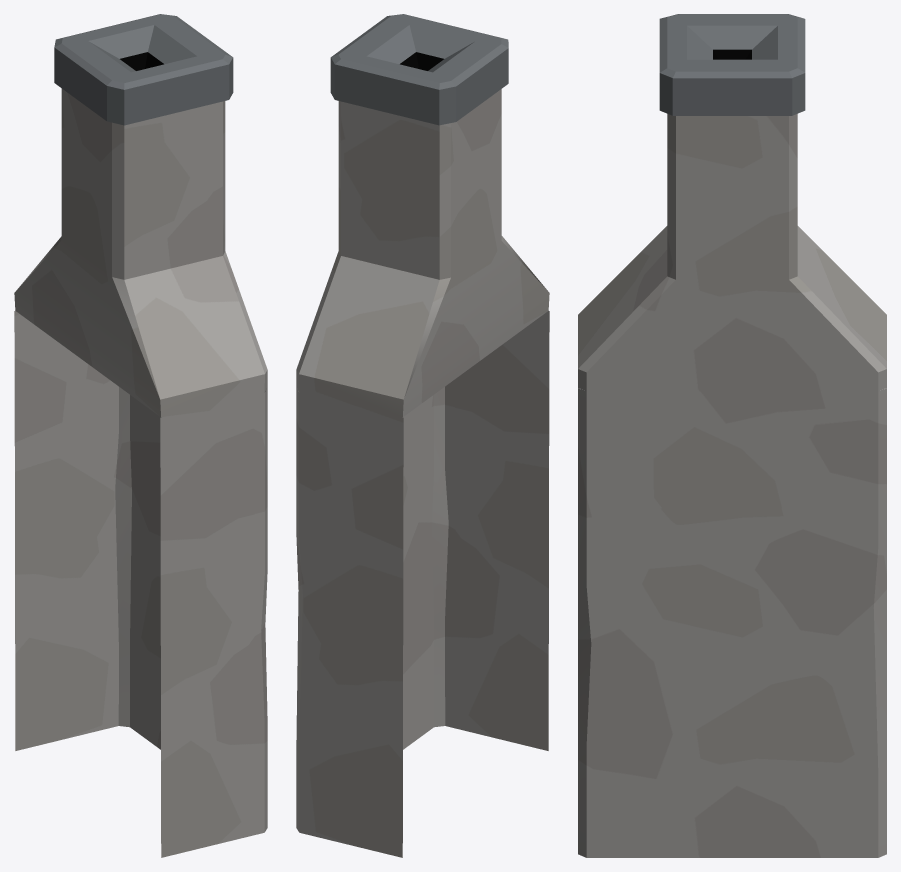
Rendered from LightStoneBuildingSmallChimney1.fbx.
3 renders of one model, left to right at view 1: azimuth 30°, elevation 25°; view 2: azimuth 150°, elevation 25°; view 3: azimuth 270°, elevation 25°, orthographic. The views are drawn at different scales.
Parts seen in each view (by area): view 1: LightStoneBuildingSmallChimney1; view 2: LightStoneBuildingSmallChimney1; view 3: LightStoneBuildingSmallChimney1.
Part boxes in pixels (bbox=[...]): LightStoneBuildingSmallChimney1: bbox=[14, 14, 267, 857]; LightStoneBuildingSmallChimney1: bbox=[296, 14, 549, 857]; LightStoneBuildingSmallChimney1: bbox=[578, 14, 886, 857].
Size of the model in its own units: 132 by 756 by 269.
Materials: 4 (2 with a texture image).
